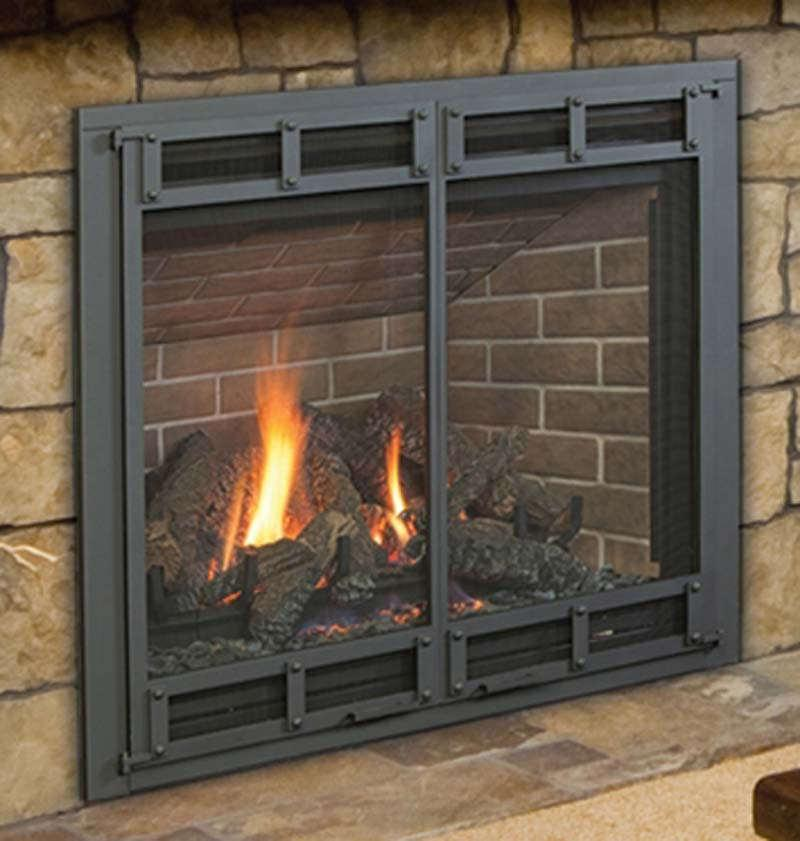fire: (260, 440, 296, 528)
